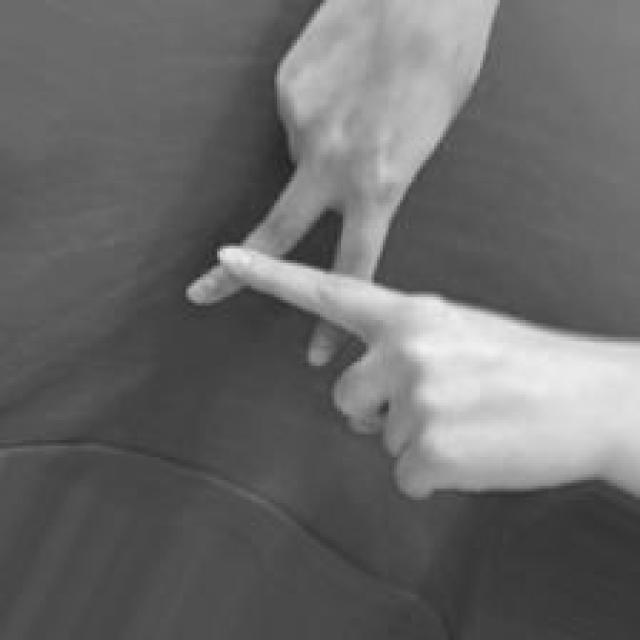A: (182, 1, 605, 499)
